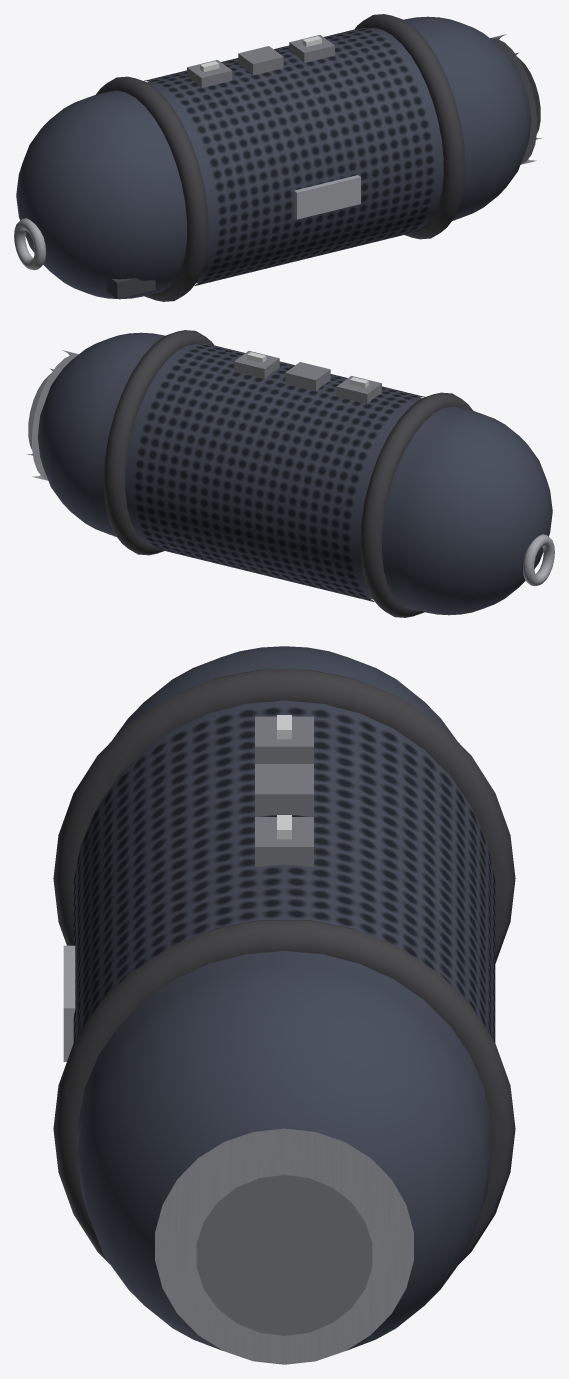
Rendered from bluetooth-speaker.glb.
The picture shows the model from 3 angles, top to bottom: view 1: azimuth 30°, elevation 25°; view 2: azimuth 150°, elevation 25°; view 3: azimuth 270°, elevation 25°; orthographic projection. The views are drawn at different scales.
Visible parts, largest first — view 1: grille, cap (×2), body, band-left, band-right, button (×3), brand-plate, lanyard, radiator, port, radiator-cone; view 2: grille, cap (×2), body, band-left, band-right, button (×3), lanyard, radiator, radiator-cone; view 3: cap (×2), grille, radiator, band-right, radiator-cone, band-left, body, button (×3), brand-plate.
Boxes of the visible parts, box(x1,y1,x2,y2) form: grille: box(144, 28, 435, 285); cap (×2): box(16, 16, 531, 299); body: box(101, 19, 479, 294); band-left: box(95, 76, 208, 301); band-right: box(354, 14, 465, 239); button (×3): box(187, 35, 334, 87); brand-plate: box(294, 175, 360, 219); lanyard: box(14, 218, 45, 270); radiator: box(490, 34, 536, 164); port: box(106, 278, 155, 298); radiator-cone: box(515, 52, 541, 139); grille: box(133, 344, 424, 601); cap (×2): box(37, 332, 552, 615); body: box(89, 335, 467, 610); band-left: box(360, 392, 473, 617); band-right: box(103, 330, 214, 555); button (×3): box(234, 351, 381, 403); lanyard: box(523, 534, 554, 586); radiator: box(32, 350, 78, 480); radiator-cone: box(27, 368, 53, 455); cap (×2): box(77, 646, 491, 1350); grille: box(73, 705, 495, 1042); radiator: box(155, 1128, 413, 1364); band-right: box(53, 920, 515, 1263); radiator-cone: box(196, 1175, 372, 1335); band-left: box(53, 669, 515, 963); body: box(78, 665, 490, 1135); button (×3): box(255, 716, 313, 866); brand-plate: box(63, 945, 75, 1061).
Bounding box in the file's own units: 0.395 × 0.1591 × 0.156.
7 materials, 3 textured.
